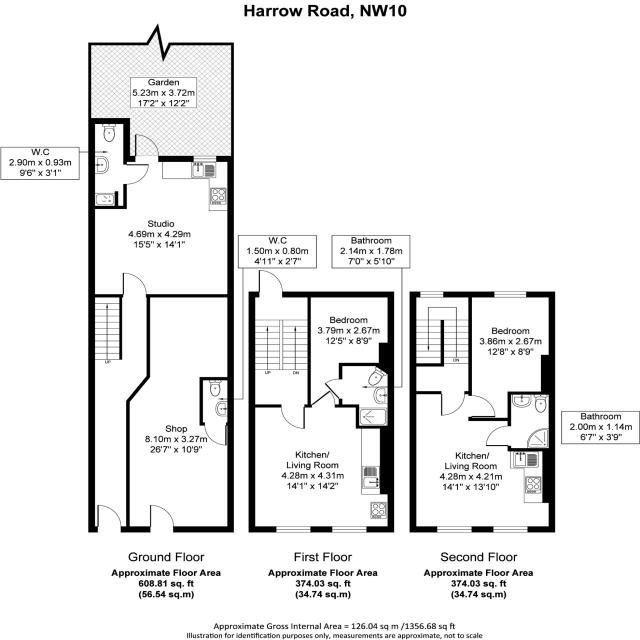DOOR: (146, 502, 177, 534), (256, 268, 286, 300), (133, 131, 162, 164), (95, 502, 124, 533), (278, 403, 307, 432), (121, 270, 149, 300), (120, 161, 151, 187), (440, 390, 466, 418), (467, 395, 497, 418), (203, 421, 228, 448), (484, 424, 512, 448), (311, 390, 336, 408), (323, 378, 343, 400)
ROOM: (125, 292, 235, 534), (247, 389, 396, 534), (407, 391, 556, 533), (467, 290, 557, 421), (306, 290, 395, 409)
WINDOW: (275, 525, 312, 534), (331, 525, 368, 534), (436, 525, 473, 534), (492, 525, 529, 534), (493, 290, 528, 298), (419, 290, 445, 299)
